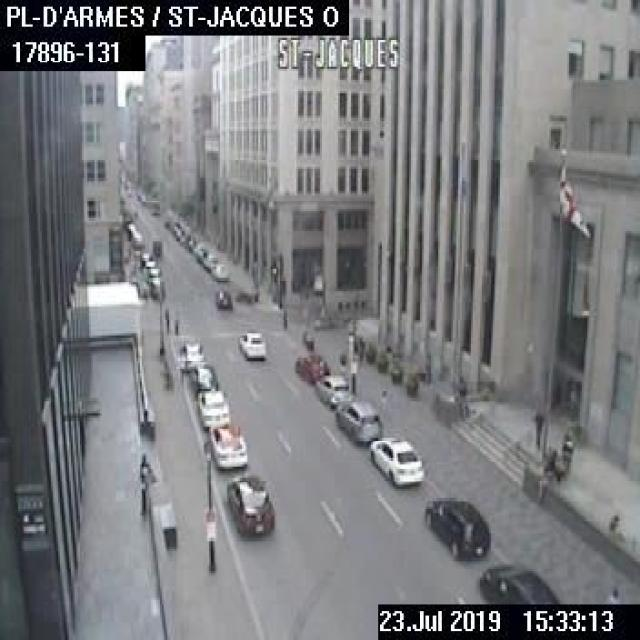pedestrian: (454, 375, 468, 420), (607, 512, 625, 542), (531, 406, 544, 446), (375, 386, 387, 424), (562, 429, 573, 470), (606, 586, 620, 604), (162, 304, 168, 333), (281, 305, 288, 329), (172, 315, 178, 338)
vehicle: (420, 493, 489, 558), (476, 563, 559, 602), (224, 476, 272, 536), (369, 436, 422, 484), (334, 398, 381, 442), (209, 423, 247, 469), (194, 388, 230, 428), (313, 373, 349, 407), (292, 352, 329, 383), (186, 358, 216, 392), (177, 337, 203, 371), (236, 329, 264, 358), (145, 276, 162, 294), (211, 262, 227, 280), (215, 289, 231, 307), (202, 252, 216, 269), (145, 265, 160, 277), (151, 238, 161, 256), (196, 247, 207, 262)
